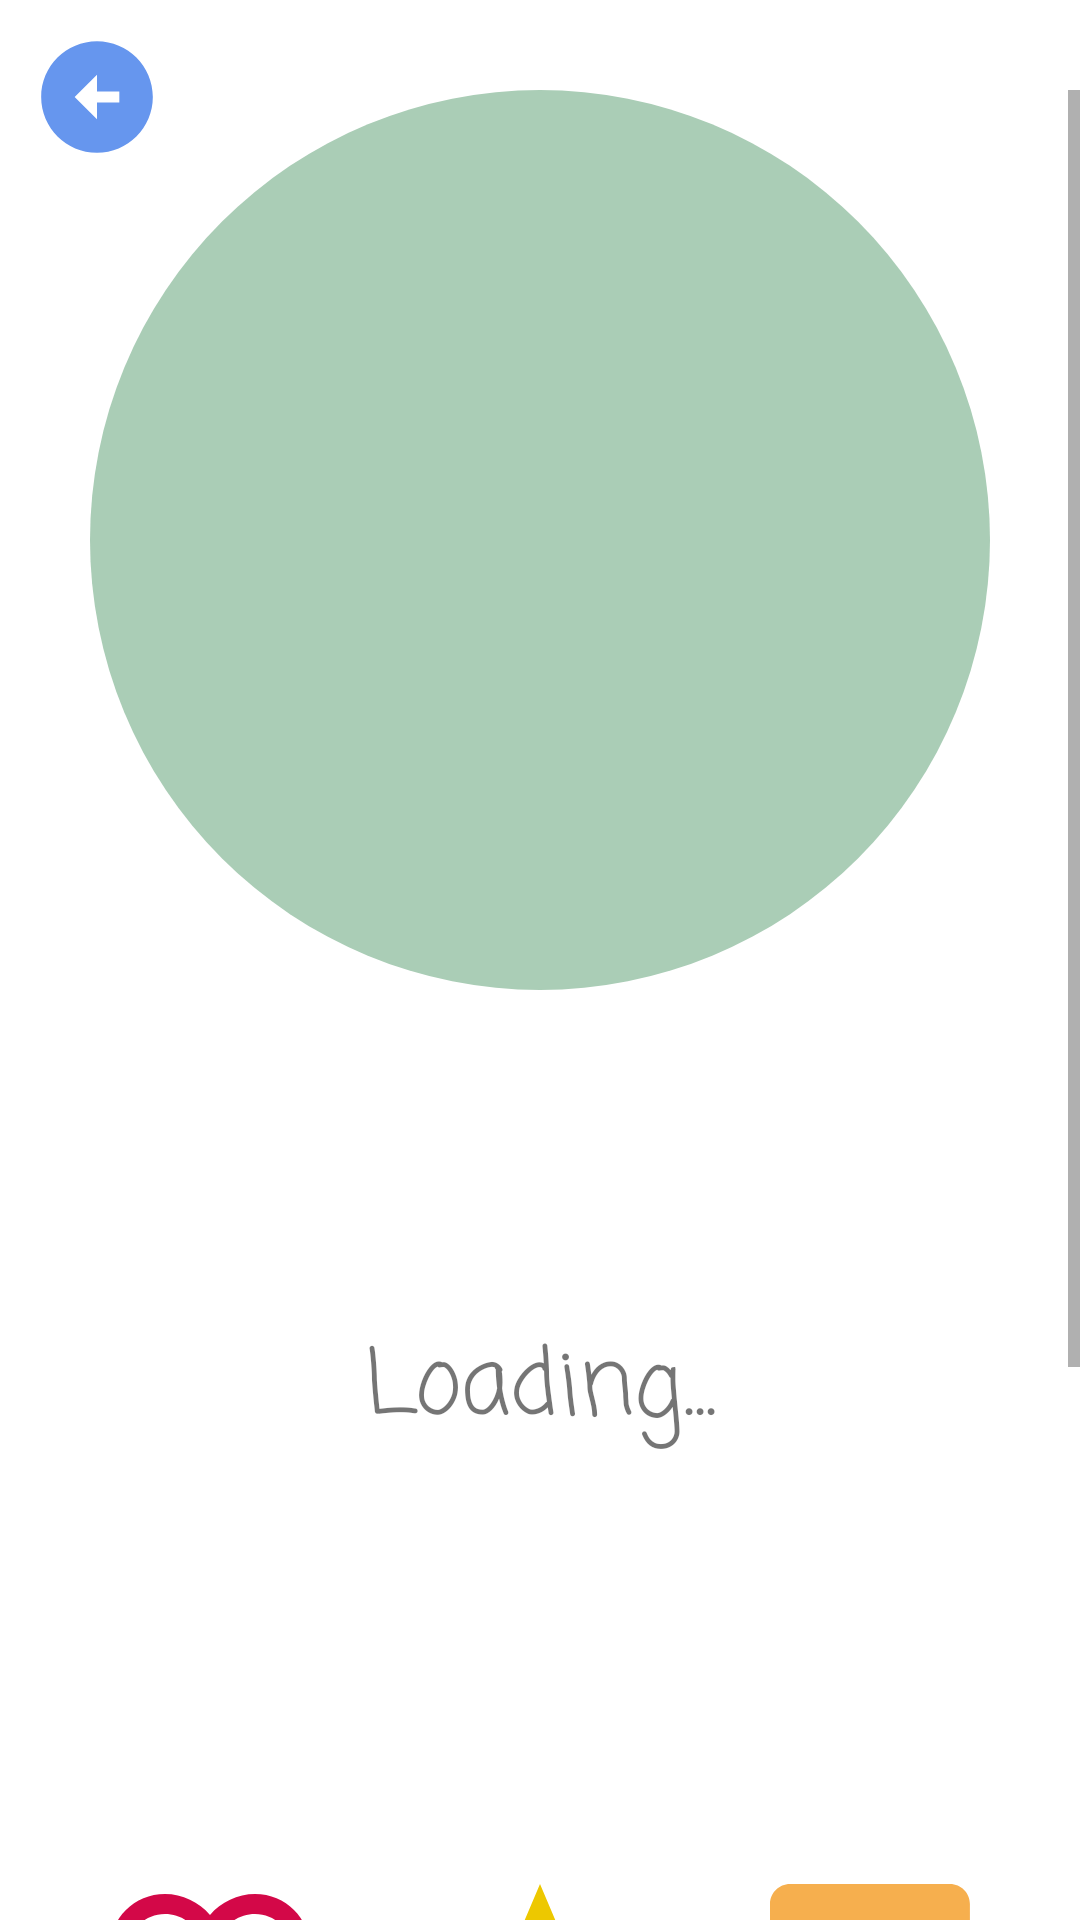

Icon click points for this 1080*1920 phone screenshot, format [x,y]:
arrow circle left: [97,97]
